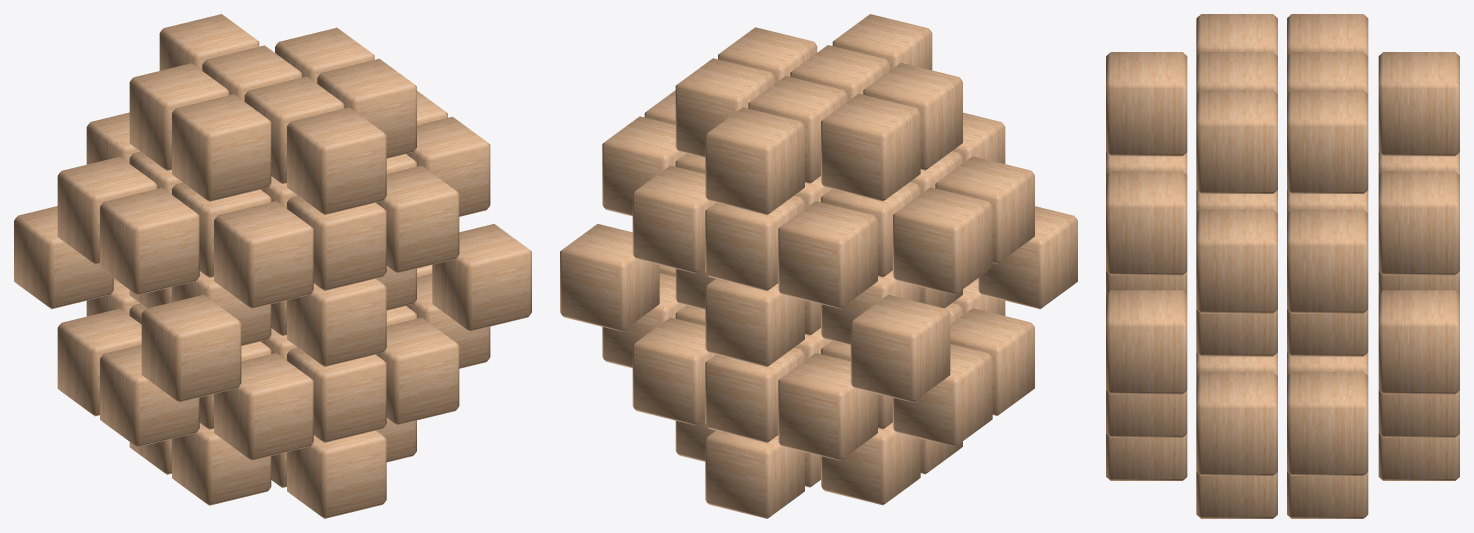
Rendered from level_77.fbx.
3 renders of one model, left to right at view 1: azimuth 30°, elevation 25°; view 2: azimuth 150°, elevation 25°; view 3: azimuth 270°, elevation 25°, orthographic. The views are drawn at different scales.
Parts seen in each view (by area): view 1: Cube.013, Cube.035, Cube.041, Cube.047, Cube.029, Cube.074, Cube.015, Cube.011, Cube.056, Cube.027, Cube.072, Cube.037 (+24 smaller); view 2: Cube.008, Cube.049, Cube.036, Cube.024, Cube.038, Cube.069, Cube.010, Cube.006, Cube.051, Cube.022, Cube.067, Cube.039 (+24 smaller); view 3: Cube.030, Cube.010, Cube.015, Cube.034, Cube.022, Cube.027, Cube.036, Cube.041, Cube.032, Cube.033, Cube.048, Cube.045 (+20 smaller).
Part boxes in pixels (left/top/right/bottom): Cube.013: left=141, top=294, right=241, bottom=402; Cube.035: left=100, top=187, right=199, bottom=295; Cube.041: left=287, top=107, right=386, bottom=214; Cube.047: left=172, top=94, right=271, bottom=201; Cube.029: left=214, top=201, right=313, bottom=308; Cube.074: left=214, top=353, right=313, bottom=460; Cube.015: left=432, top=224, right=531, bottom=331; Cube.011: left=287, top=278, right=386, bottom=366; Cube.056: left=287, top=430, right=386, bottom=518; Cube.027: left=376, top=165, right=459, bottom=273; Cube.072: left=376, top=317, right=459, bottom=425; Cube.037: left=100, top=344, right=199, bottom=447; Cube.008: left=850, top=294, right=950, bottom=402; Cube.049: left=821, top=93, right=920, bottom=201; Cube.036: left=705, top=107, right=804, bottom=214; Cube.024: left=778, top=201, right=877, bottom=308; Cube.038: left=893, top=187, right=992, bottom=294; Cube.069: left=778, top=353, right=877, bottom=460; Cube.010: left=560, top=224, right=659, bottom=331; Cube.006: left=705, top=278, right=804, bottom=366; Cube.051: left=705, top=430, right=804, bottom=518; Cube.022: left=632, top=165, right=715, bottom=273; Cube.067: left=632, top=317, right=715, bottom=425; Cube.039: left=893, top=344, right=992, bottom=446; Cube.030: left=1196, top=209, right=1277, bottom=313; Cube.010: left=1378, top=290, right=1459, bottom=394; Cube.015: left=1106, top=290, right=1187, bottom=394; Cube.034: left=1287, top=371, right=1368, bottom=475; Cube.022: left=1378, top=171, right=1459, bottom=275; Cube.027: left=1106, top=171, right=1187, bottom=275; Cube.036: left=1378, top=52, right=1459, bottom=156; Cube.041: left=1106, top=52, right=1187, bottom=156; Cube.032: left=1196, top=371, right=1277, bottom=475; Cube.033: left=1287, top=209, right=1368, bottom=313; Cube.048: left=1287, top=90, right=1368, bottom=193; Cube.045: left=1196, top=90, right=1277, bottom=193.
Bounding box in the file's own units: 10.83 × 10.8 × 8.69.
